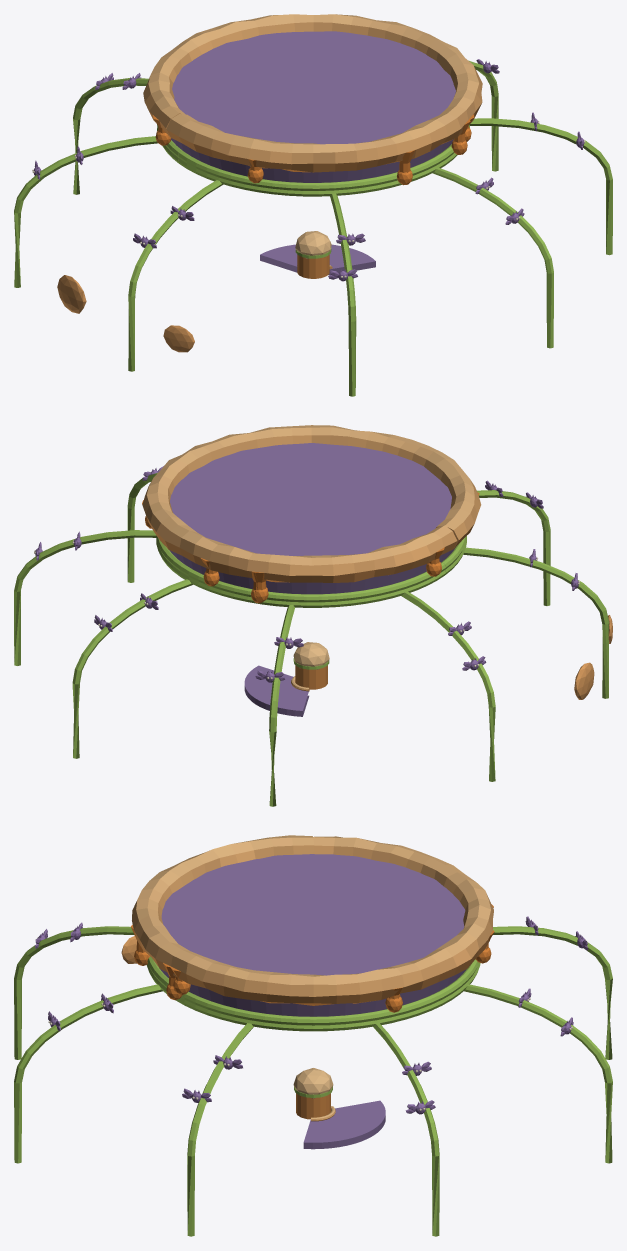
Rendered from goo_jar_trim_2_top@haunted.fbx.
The picture shows the model from 3 angles, top to bottom: view 1: azimuth 30°, elevation 25°; view 2: azimuth 150°, elevation 25°; view 3: azimuth 270°, elevation 25°; orthographic projection. The views are drawn at different scales.
Parts seen in each view (by area): view 1: goo_jar_trim_2_top; view 2: goo_jar_trim_2_top; view 3: goo_jar_trim_2_top.
Part boxes in pixels (box(x1,y1,x2,y2)): goo_jar_trim_2_top: box(14, 14, 612, 396); goo_jar_trim_2_top: box(14, 425, 612, 806); goo_jar_trim_2_top: box(14, 835, 612, 1236).
Bounding box in the file's own units: 53.09 × 20.05 × 50.92.
